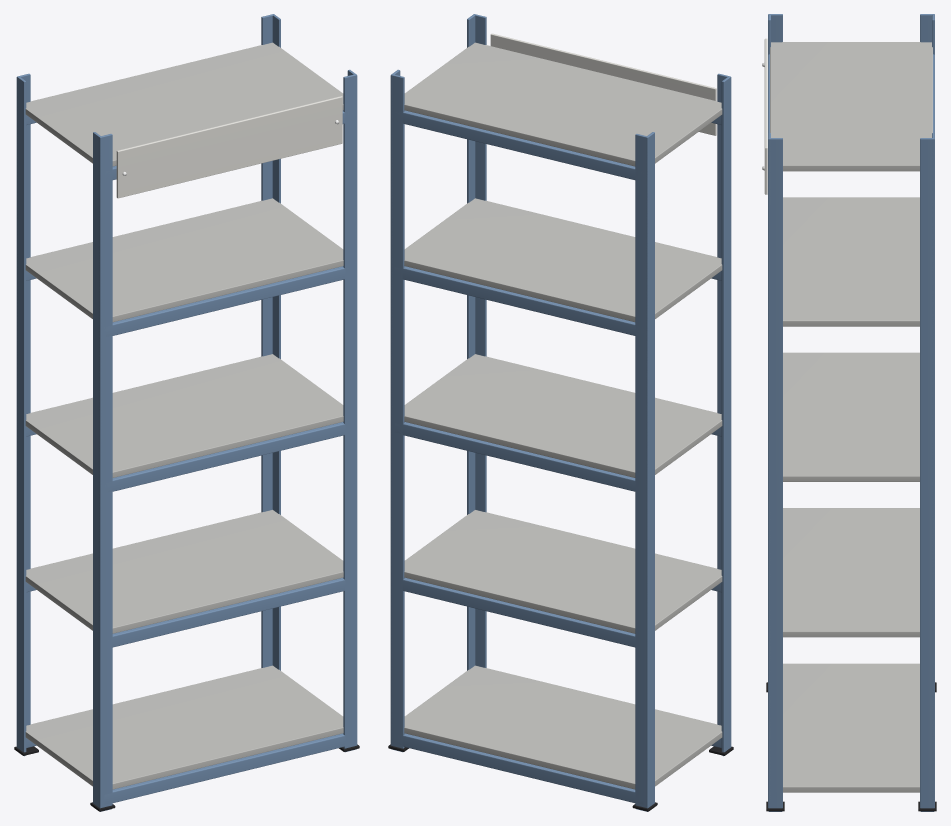
The model's file is industrial.workshop.shelf_compact.glb.
The picture shows the model from 3 angles, left to right: view 1: azimuth 30°, elevation 25°; view 2: azimuth 150°, elevation 25°; view 3: azimuth 270°, elevation 25°; orthographic projection.
Parts seen in each view (by area): view 1: main__paint_ccc, main__paint_79b, main__paint_eee; view 2: main__paint_ccc, main__paint_79b, main__paint_eee; view 3: main__paint_ccc, main__paint_79b, main__paint_eee.
Part boxes in pixels (bbox=[...]): main__paint_ccc: bbox=[25, 42, 343, 789]; main__paint_79b: bbox=[16, 14, 357, 811]; main__paint_eee: bbox=[116, 96, 342, 198]; main__paint_ccc: bbox=[404, 42, 722, 789]; main__paint_79b: bbox=[390, 14, 731, 811]; main__paint_eee: bbox=[490, 33, 716, 135]; main__paint_ccc: bbox=[770, 42, 932, 792]; main__paint_79b: bbox=[768, 14, 934, 811]; main__paint_eee: bbox=[764, 38, 767, 194].
Bounding box in the file's own units: 0.81 × 2 × 0.471.
